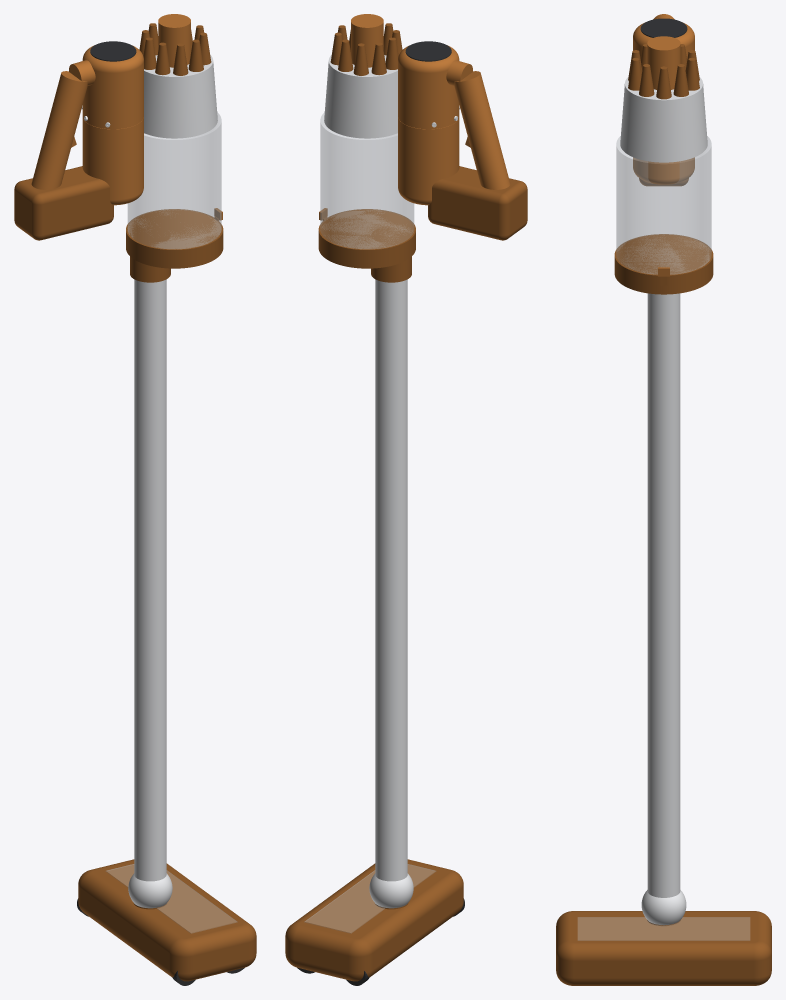
3 views of the same model, side by side, from view 1: azimuth 30°, elevation 25°; view 2: azimuth 150°, elevation 25°; view 3: azimuth 270°, elevation 25° (orthographic).
Visible parts, largest first — view 1: metal.2, accent.1, clear.2, accent.40, metal.3, accent.4, body.2, body.6, body.3, clear.1, body.1, metal.1 (+2 smaller); view 2: metal.2, accent.1, clear.2, accent.40, accent.4, metal.3, body.2, body.6, body.3, clear.1, body.1, metal.1 (+2 smaller); view 3: metal.2, accent.1, clear.2, metal.3, accent.4, clear.1, body.1, body.2, metal.1, coat.1, body.6, accent.3.
Part boxes in pixels (x1,y1,x2,y2): metal.2: [134, 279, 166, 881]; accent.1: [78, 859, 256, 981]; clear.2: [127, 112, 221, 249]; accent.40: [14, 166, 113, 240]; metal.3: [144, 54, 217, 138]; accent.4: [126, 209, 223, 268]; body.2: [82, 117, 143, 205]; body.6: [82, 45, 143, 129]; body.3: [31, 71, 87, 189]; clear.1: [106, 864, 237, 933]; body.1: [158, 14, 190, 67]; metal.1: [128, 873, 172, 908]; metal.2: [375, 279, 407, 881]; accent.1: [285, 859, 463, 981]; clear.2: [320, 112, 414, 249]; accent.40: [428, 166, 527, 240]; accent.4: [318, 209, 415, 268]; metal.3: [324, 54, 397, 138]; body.2: [398, 117, 459, 205]; body.6: [398, 45, 459, 129]; body.3: [454, 71, 510, 189]; clear.1: [304, 864, 435, 933]; body.1: [351, 14, 383, 67]; metal.1: [369, 873, 413, 908]; metal.2: [647, 293, 680, 897]; accent.1: [556, 911, 771, 985]; clear.2: [616, 136, 711, 274]; metal.3: [620, 77, 707, 162]; accent.4: [614, 234, 713, 294]; clear.1: [578, 917, 749, 940]; body.1: [647, 36, 680, 89]; body.2: [633, 157, 694, 184]; metal.1: [641, 890, 686, 925]; coat.1: [640, 18, 687, 37]; body.6: [633, 22, 694, 59]; accent.3: [643, 234, 684, 251].
Bounding box in the file's own units: 0.2665 × 1.19 × 0.25.
